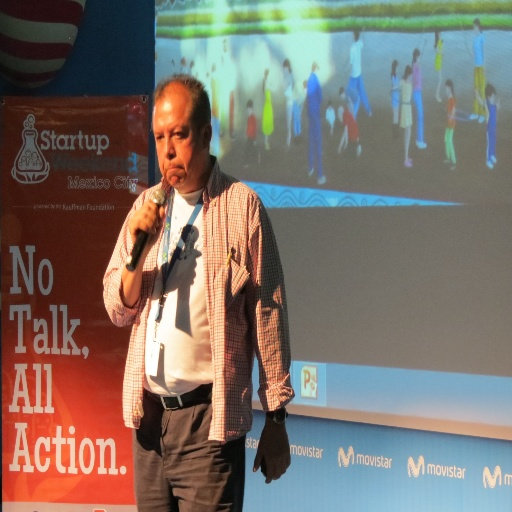hand: (115, 191, 158, 270), (250, 427, 291, 485)
